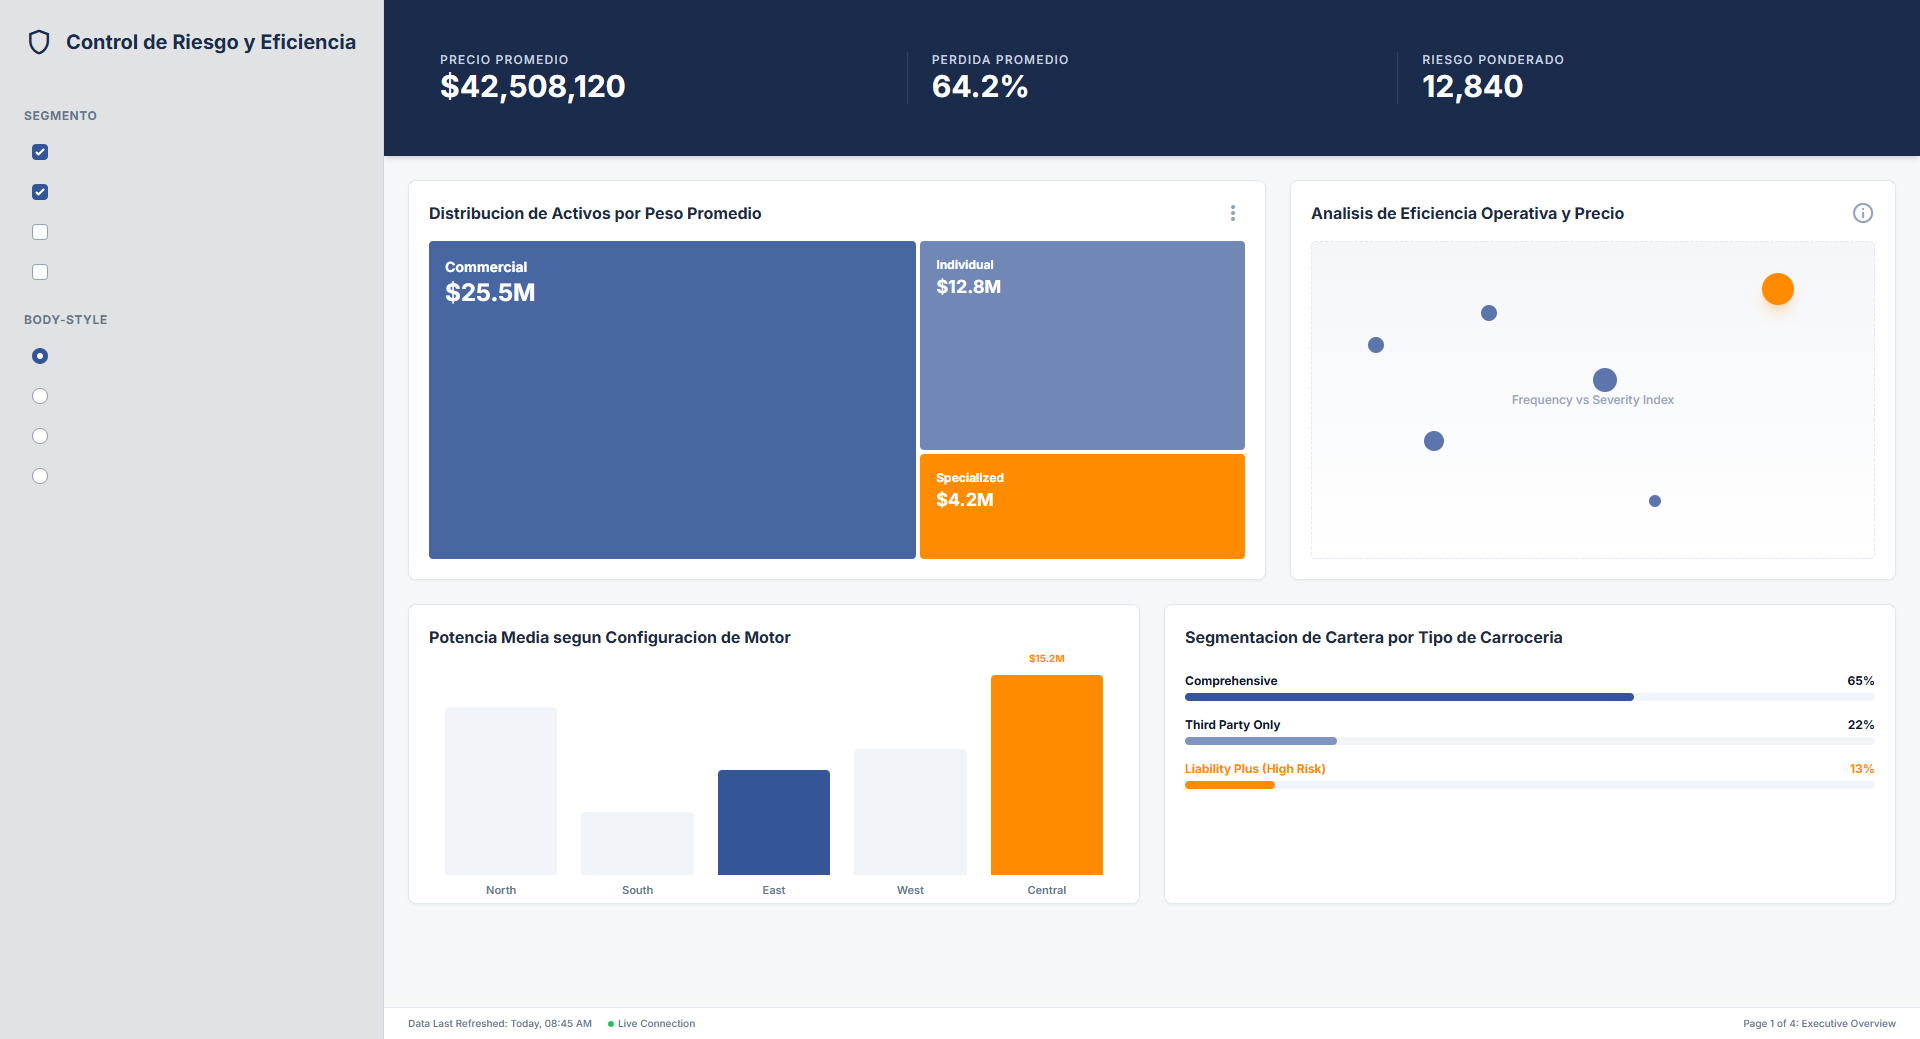

This screenshot's page, from the dashboard's own definition file:
{"tool":"powerbi","page":{"name":"Página 2","canvas":[1280,720],"ordinal":0},"visuals":[{"type":"shape","box":[10,85.7,171.4,120],"z":0},{"type":"listSlicer","fields":{"Values":["Dataset.segmento"]},"box":[10,85.7,171.4,120],"z":1000},{"type":"shape","box":[20,238.6,171.4,150],"z":2000},{"type":"listSlicer","fields":{"Values":["Dataset.body-style"]},"box":[10,238.6,198.6,192.9],"z":3000},{"type":"shape","box":[290,45.6,130,40],"z":4000},{"type":"shape","box":[617.5,45.6,130,40],"z":5000},{"type":"shape","box":[944.4,45.6,130,40],"z":6000},{"type":"shape","box":[280.8,163.3,559.2,230.8],"z":7000},{"type":"shape","box":[868.3,164.2,391.7,230],"z":8000},{"type":"shape","box":[1227.5,131.7,32.5,29.2],"z":9000},{"type":"shape","box":[807.5,135,32.5,29.2],"z":10000},{"type":"shape","box":[781.7,455.8,478.3,143.3],"z":11000},{"type":"shape","box":[280.8,448.3,466.7,176.7],"z":12000},{"type":"treemap","fields":{"Group":["Dataset.make"],"Values":["Avg(Dataset.curb-weight)"]},"box":[280,153.3,560,245.3],"z":13000},{"type":"scatterChart","fields":{"X":["Avg(Dataset.city-mpg)"],"Y":["Avg(Dataset.price)"],"Series":["Dataset.make"]},"box":[868.9,153.3,391.1,245.6],"z":14000},{"type":"clusteredColumnChart","fields":{"Category":["Dataset.engine-type"],"Y":["Avg(Dataset.horsepower)"]},"box":[280.9,440.9,475.5,183.6],"z":15000},{"type":"barChart","fields":{"Y":["Avg(Dataset.price)"],"Category":["Dataset.segmento"],"Series":["Dataset.body-style"]},"box":[781.2,453.8,478.8,171.2],"z":16000},{"type":"card","fields":{"Values":["Dataset.Riesgo Ponderado"]},"box":[933.8,35,143.8,53.8],"z":16001},{"type":"card","fields":{"Values":["Avg(Dataset.price)"]},"box":[281.2,30,156.2,62.5],"z":16002},{"type":"card","fields":{"Values":["Avg(Dataset.normalized-losses)"]},"box":[602.5,43.8,137.5,37.5],"z":16003}]}

Visuals, with their boxes on the page's 1280x720 design canvas (x1, y1, x2, y2). These are canvas units, not pixel positions in the 1920x1039 screenshot, which may show the page scaled, cropped or inside an application window:
shape: Rect(10, 86, 181, 206)
listSlicer - Dataset.segmento: Rect(10, 86, 181, 206)
shape: Rect(20, 239, 191, 389)
listSlicer - Dataset.body-style: Rect(10, 239, 209, 432)
shape: Rect(290, 46, 420, 86)
shape: Rect(618, 46, 748, 86)
shape: Rect(944, 46, 1074, 86)
shape: Rect(281, 163, 840, 394)
shape: Rect(868, 164, 1260, 394)
shape: Rect(1228, 132, 1260, 161)
shape: Rect(808, 135, 840, 164)
shape: Rect(782, 456, 1260, 599)
shape: Rect(281, 448, 748, 625)
treemap - Dataset.make x Avg(Dataset.curb-weight): Rect(280, 153, 840, 399)
scatterChart - Avg(Dataset.city-mpg) x Avg(Dataset.price): Rect(869, 153, 1260, 399)
clusteredColumnChart - Dataset.engine-type x Avg(Dataset.horsepower): Rect(281, 441, 756, 624)
barChart - Avg(Dataset.price) x Dataset.segmento: Rect(781, 454, 1260, 625)
card - Dataset.Riesgo Ponderado: Rect(934, 35, 1078, 89)
card - Avg(Dataset.price): Rect(281, 30, 437, 92)
card - Avg(Dataset.normalized-losses): Rect(602, 44, 740, 81)
